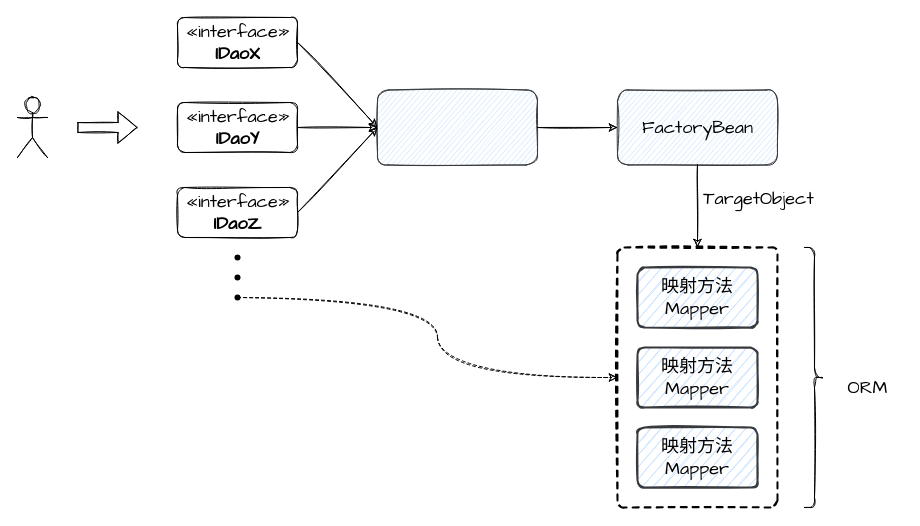
Some shapes in this 920 by 526 pixel diagram are drawn without their labels. The shapes that lost their labels are listed below. From the top down, each one's box as (x1, y1, x2, y2) in pixels, then its label:
(16, 96, 48, 158): Actor
(376, 89, 538, 165): MapperProxy<T>
